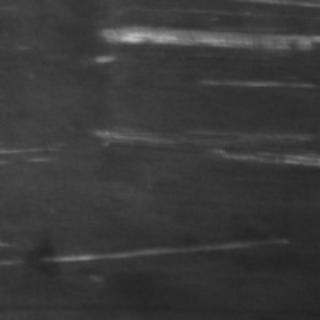scratches: (78, 18, 318, 60), (84, 123, 318, 163), (37, 234, 285, 262), (195, 71, 315, 93)
